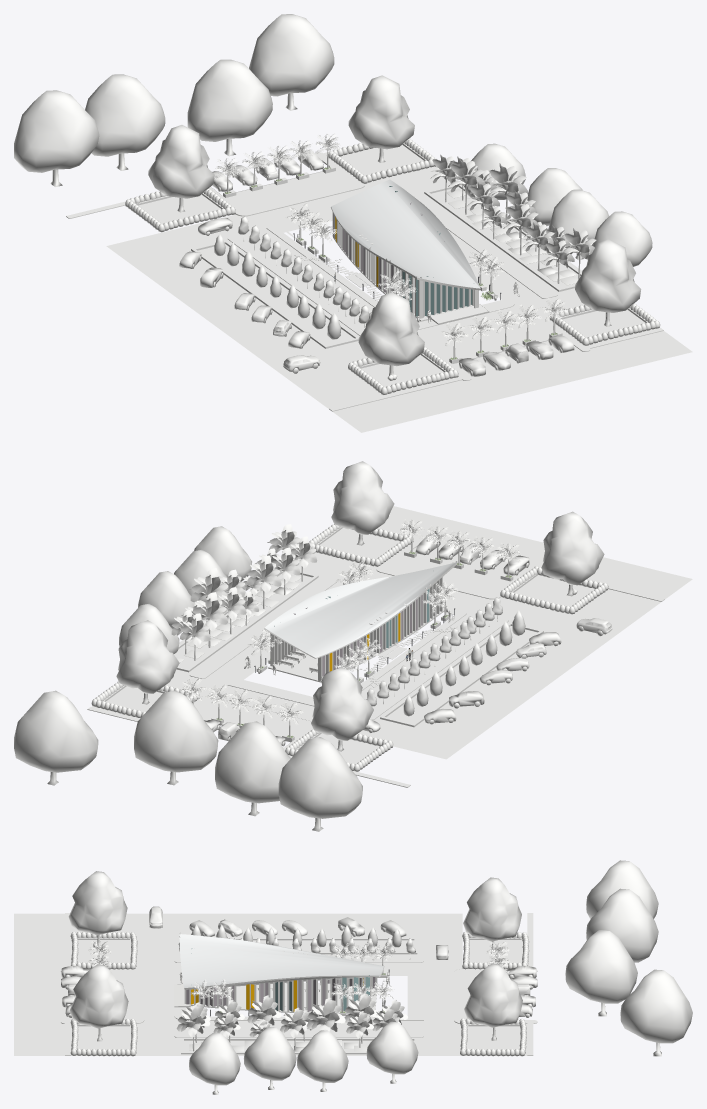
The model's file is stoarc-model.glb.
3 renders of one model, top to bottom at view 1: azimuth 30°, elevation 25°; view 2: azimuth 150°, elevation 25°; view 3: azimuth 270°, elevation 25°, orthographic. The views are drawn at different scales.
Visible parts, largest first — view 1: Mesh1381; view 2: Mesh1381; view 3: Mesh1381.
Part boxes in pixels (box(x1,y1,x2,y2)): Mesh1381: box(14, 14, 692, 432); Mesh1381: box(14, 461, 692, 831); Mesh1381: box(14, 860, 692, 1094).
Bounding box in the file's own units: 23.1 × 5.81 × 38.53.
Materials: 1 (1 with a texture image).
